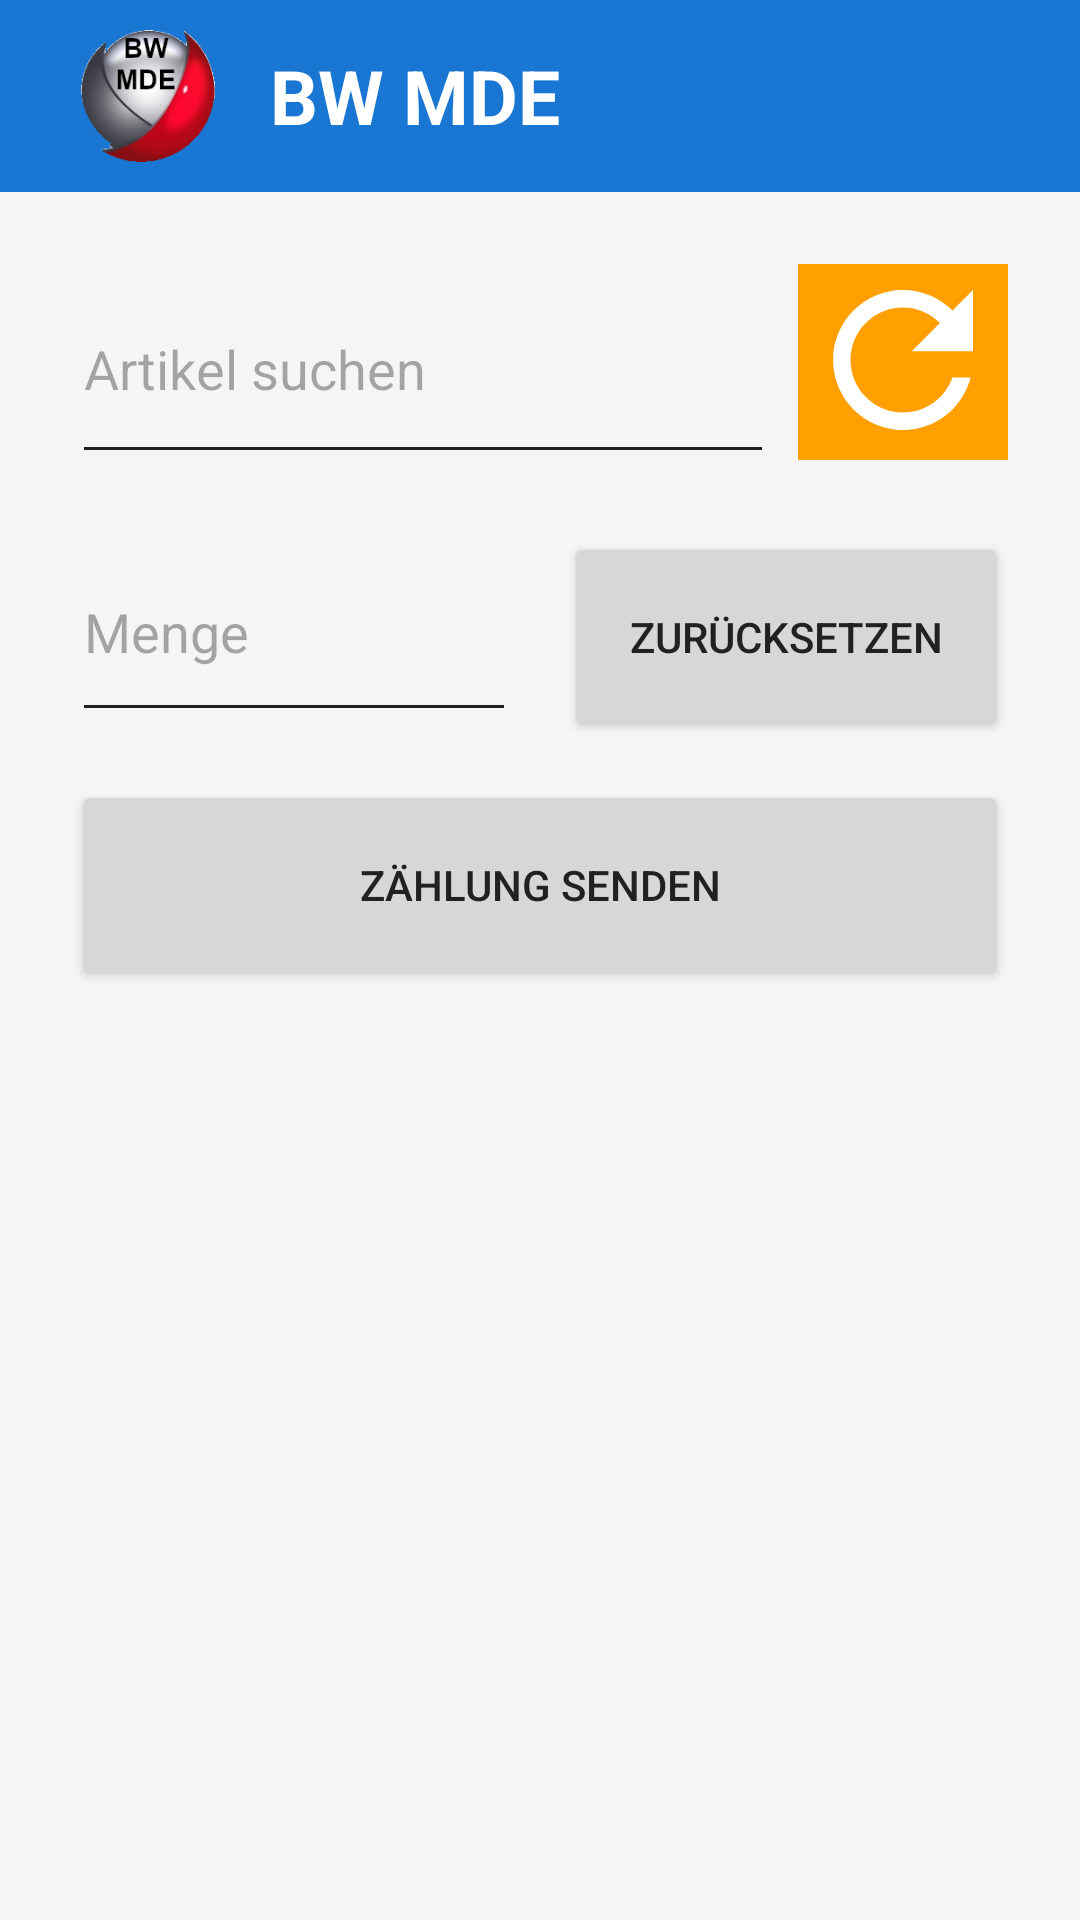

Screen size 1080×1920. Icon name, then its center in pixels as point (x, y):
Neu laden: point (903, 362)
